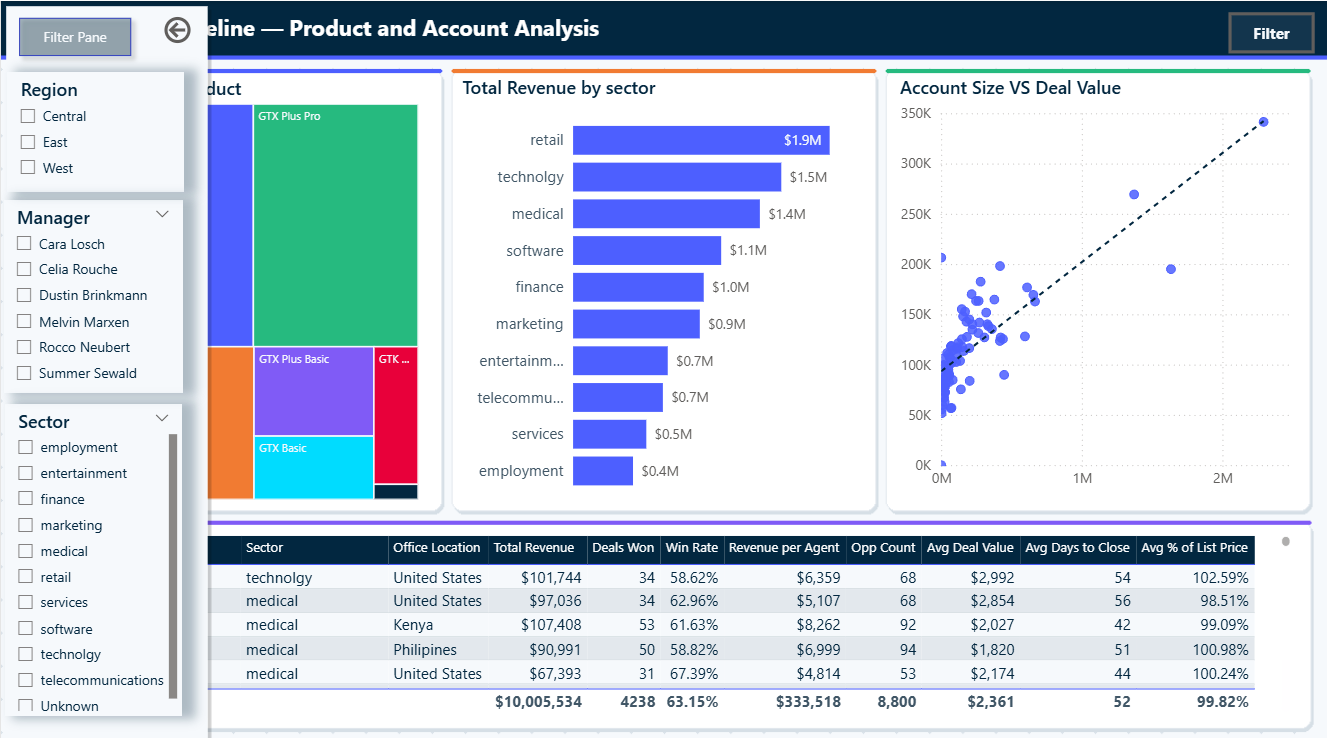

What the dashboard file says about the page in this screenshot:
{"tool":"powerbi","page":{"name":"Product & Account","canvas":[1280,720],"ordinal":2},"visuals":[{"type":"shape","box":[0,0,204.5,720.4],"z":0,"group":"g2"},{"type":"group","id":"g1","title":"Main Page 3","box":[15.3,6,1252,685.2],"z":0},{"type":"treemap","fields":{"Values":["Table.Total Revenue"],"Group":["vw_sales_gold.product"]},"box":[26.2,72.3,381.2,413.8],"z":0,"group":"g1"},{"type":"group","id":"g2","title":"FilterPane Page 3","box":[0,0,204.5,720.4],"z":1000},{"type":"slicer","fields":{"Values":["vw_sales_gold.regional_office"]},"box":[5.5,68.6,170.2,115.3],"z":1000,"group":"g2"},{"type":"clusteredBarChart","fields":{"Category":["vw_sales_gold.sector"],"Y":["Table.Total Revenue"]},"box":[439.6,71.1,396.9,416.2],"z":1000,"group":"g1"},{"type":"scatterChart","title":"Account Size VS Deal Value","fields":{"Category":["vw_sales_gold.account"],"X":["Sum(vw_sales_gold.account_revenue_millions)"],"Y":["Sum(vw_sales_gold.close_value)"]},"box":[861.8,71.1,399.3,409],"z":2000,"group":"g1"},{"type":"slicer","fields":{"Values":["vw_sales_gold.sector"]},"box":[4.1,388.3,171.5,301.9],"z":2000,"group":"g2"},{"type":"slicer","fields":{"Values":["vw_sales_gold.manager"]},"box":[2.7,192.1,172.9,186.6],"z":3000,"group":"g2"},{"type":"tableEx","fields":{"Values":["vw_sales_gold.account","vw_sales_gold.sector","vw_sales_gold.office_location","Table.Total Revenue","Table.Deals Won","Table.Win Rate","Table.Revenue per Agent","Table.Opp Count","Table.Avg Deal Value","Table.Avg Days to Close","Table.Avg % of List Price"]},"box":[15.3,511.5,1234.2,179.8],"z":3000,"group":"g1"},{"type":"textbox","box":[57.9,6,707,42.2],"z":4000,"group":"g1"},{"type":"actionButton","box":[153.7,8.2,34.3,39.8],"z":4000,"group":"g2"},{"type":"shape","box":[8.2,6.9,126.2,54.9],"z":5000,"group":"g2"},{"type":"actionButton","box":[1184.2,11.1,83.2,39.7],"z":5000,"group":"g1"}]}

Visuals, with their boxes on the page's 1280x720 design canvas (x1, y1, x2, y2). These are canvas units, not pixel positions in the 1327x738 screenshot, which may show the page scaled, cropped or inside an application window:
shape: box=[0, 0, 204, 720]
"Main Page 3" group: box=[15, 6, 1267, 691]
treemap - Table.Total Revenue x vw_sales_gold.product: box=[26, 72, 407, 486]
"FilterPane Page 3" group: box=[0, 0, 204, 720]
slicer - vw_sales_gold.regional_office: box=[6, 69, 176, 184]
clusteredBarChart - vw_sales_gold.sector x Table.Total Revenue: box=[440, 71, 836, 487]
"Account Size VS Deal Value" scatterChart: box=[862, 71, 1261, 480]
slicer - vw_sales_gold.sector: box=[4, 388, 176, 690]
slicer - vw_sales_gold.manager: box=[3, 192, 176, 379]
tableEx - vw_sales_gold.account x vw_sales_gold.sector: box=[15, 512, 1250, 691]
textbox: box=[58, 6, 765, 48]
actionButton: box=[154, 8, 188, 48]
shape: box=[8, 7, 134, 62]
actionButton: box=[1184, 11, 1267, 51]
